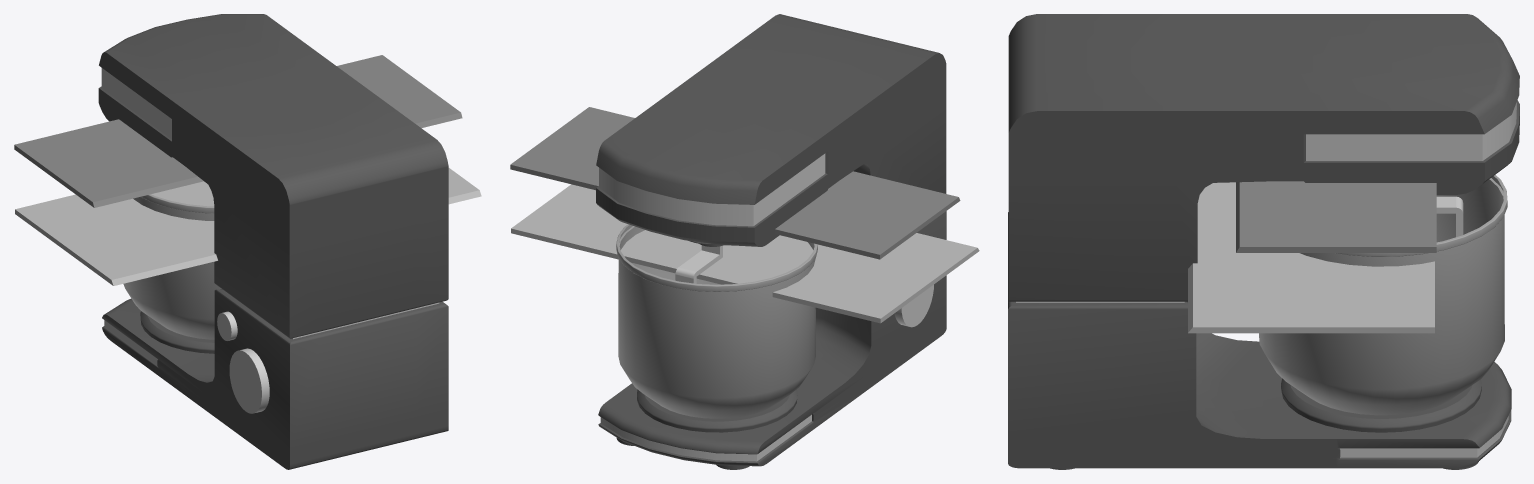
3 renders of one model, left to right at view 1: azimuth 30°, elevation 25°; view 2: azimuth 150°, elevation 25°; view 3: azimuth 270°, elevation 25°, orthographic. The views are drawn at different scales.
Visible parts, largest first — view 1: Cube.004, Cube.001, Cylinder.007, Cylinder.001; view 2: Cube.004, Cube.001, Cylinder.007, Cube.005, Cylinder.001; view 3: Cube.004, Cube.001, Cylinder.007, Cube.005.
Boxes of the visible parts, x1,y1,x2,y2 form: Cube.004: (98, 14, 448, 469); Cube.001: (14, 55, 481, 285); Cylinder.007: (123, 194, 221, 353); Cylinder.001: (217, 311, 269, 413); Cube.004: (596, 14, 946, 466); Cube.001: (510, 107, 979, 323); Cylinder.007: (616, 224, 817, 432); Cube.005: (675, 240, 723, 283); Cylinder.001: (616, 284, 933, 469); Cube.004: (1008, 14, 1519, 468); Cube.001: (1188, 181, 1436, 333); Cylinder.007: (1259, 174, 1507, 432); Cube.005: (1436, 196, 1463, 236).
Bounding box in the file's own units: 464 × 351 × 445.
Materials: 3 (1 with a texture image).
